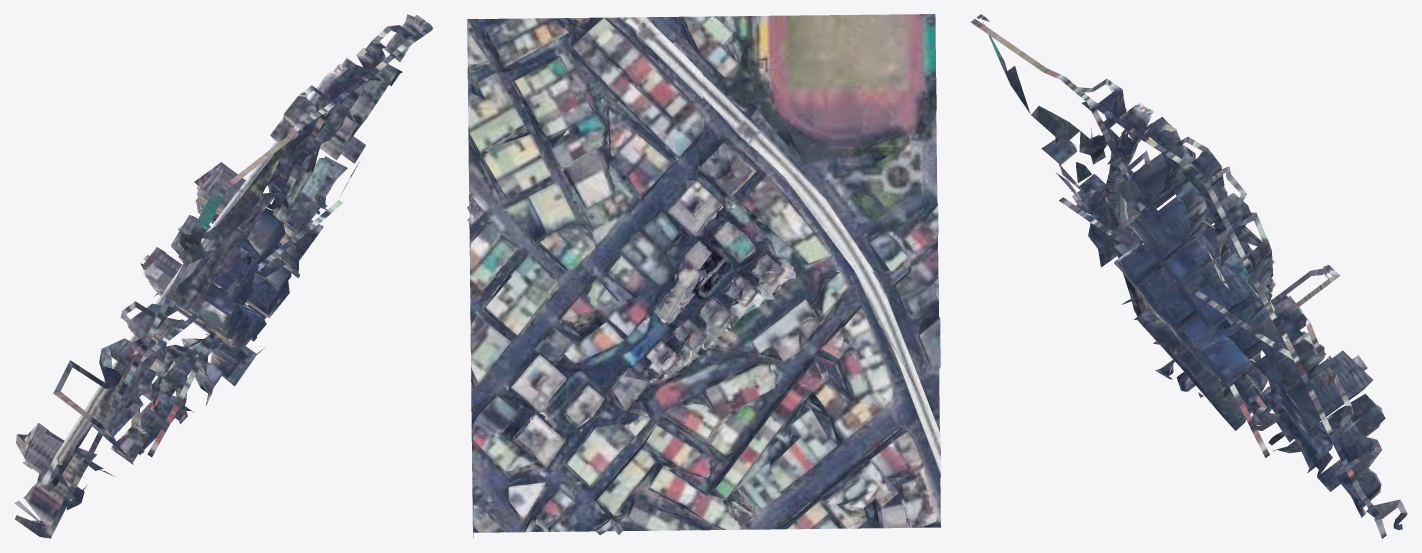
3 renders of one model, left to right at view 1: azimuth 30°, elevation 25°; view 2: azimuth 150°, elevation 25°; view 3: azimuth 270°, elevation 25°, orthographic. The views are drawn at different scales.
Size of the model in its own units: 319 by 285 by 271.
Materials: 2 (2 with a texture image).
